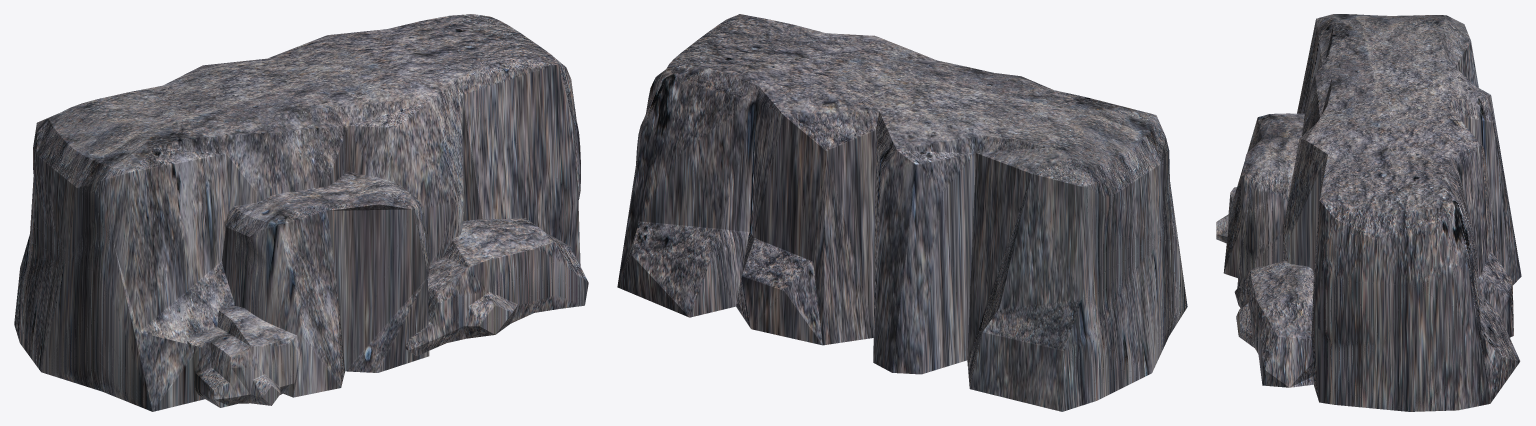
The model's file is MontañaDos.fbx.
3 renders of one model, left to right at view 1: azimuth 30°, elevation 25°; view 2: azimuth 150°, elevation 25°; view 3: azimuth 270°, elevation 25°, orthographic. The views are drawn at different scales.
Parts seen in each view (by area): view 1: Montaña; view 2: Montaña; view 3: Montaña.
Part boxes in pixels (<box>): Montaña: <box>14,14,588,411</box>; Montaña: <box>617,14,1187,411</box>; Montaña: <box>1216,14,1521,411</box>.
Size of the model in its own units: 2.79 by 1.24 by 1.63.
